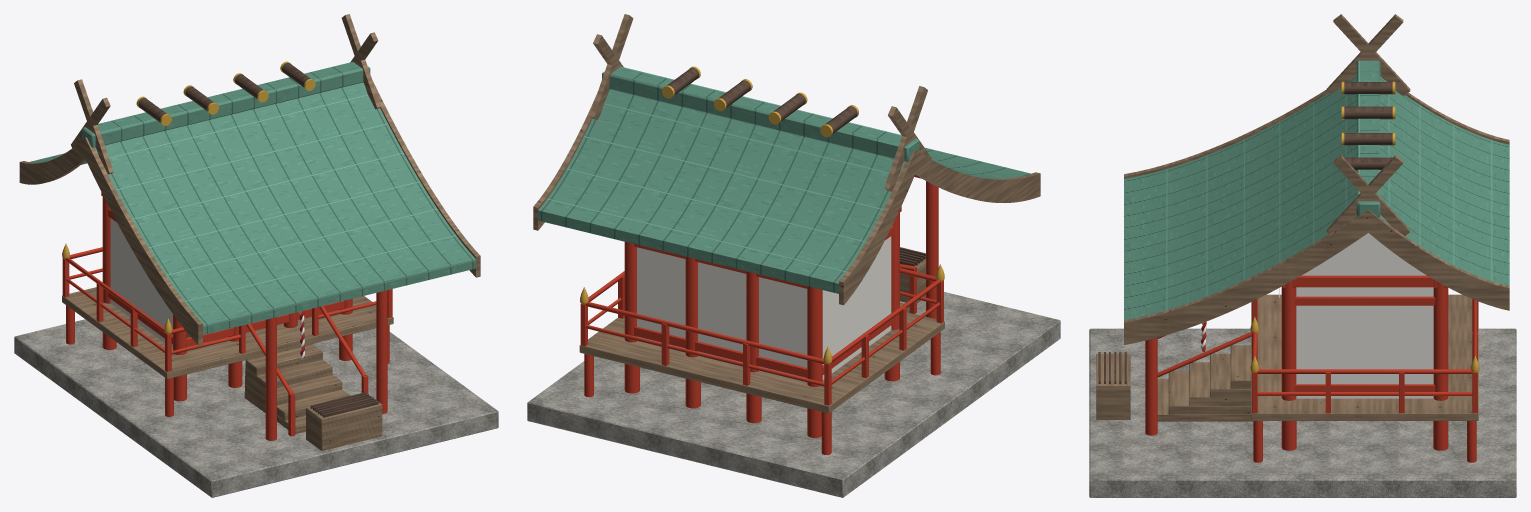
Rendered from shrine.glb.
3 views of the same model, side by side, from view 1: azimuth 30°, elevation 25°; view 2: azimuth 150°, elevation 25°; view 3: azimuth 270°, elevation 25° (orthographic). The views are drawn at different scales.
Parts seen in each view (by area): view 1: Shinto_Shrine; view 2: Shinto_Shrine; view 3: Shinto_Shrine.
Part boxes in pixels (bbox=[...]): Shinto_Shrine: bbox=[14, 14, 498, 497]; Shinto_Shrine: bbox=[527, 14, 1060, 497]; Shinto_Shrine: bbox=[1089, 14, 1516, 497].
Bounding box in the file's own units: 5.2 × 5.4 × 6.2.
Materials: 13 (4 with a texture image).
